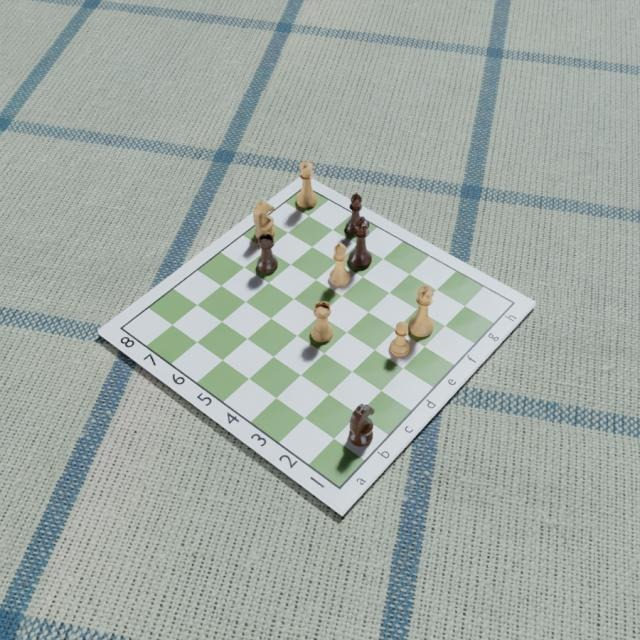black-king: (348, 214, 372, 270)
black-knight: (348, 403, 376, 445)
black-rook: (343, 191, 365, 239), (255, 232, 277, 275)
white-bishop: (327, 240, 352, 288)
white-king: (406, 283, 433, 341)
white-knight: (253, 199, 275, 241)
white-pawn: (389, 320, 411, 358)
white-queen: (294, 158, 317, 209)
white-rook: (310, 301, 334, 343)
